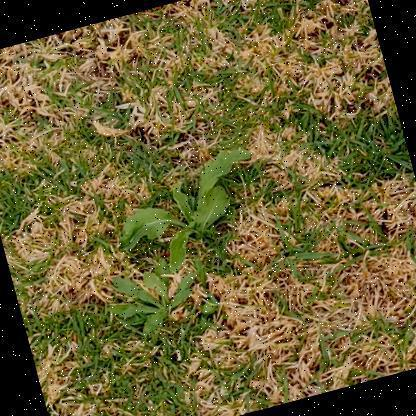Weeds: (101, 141, 276, 285), (99, 250, 212, 348)
